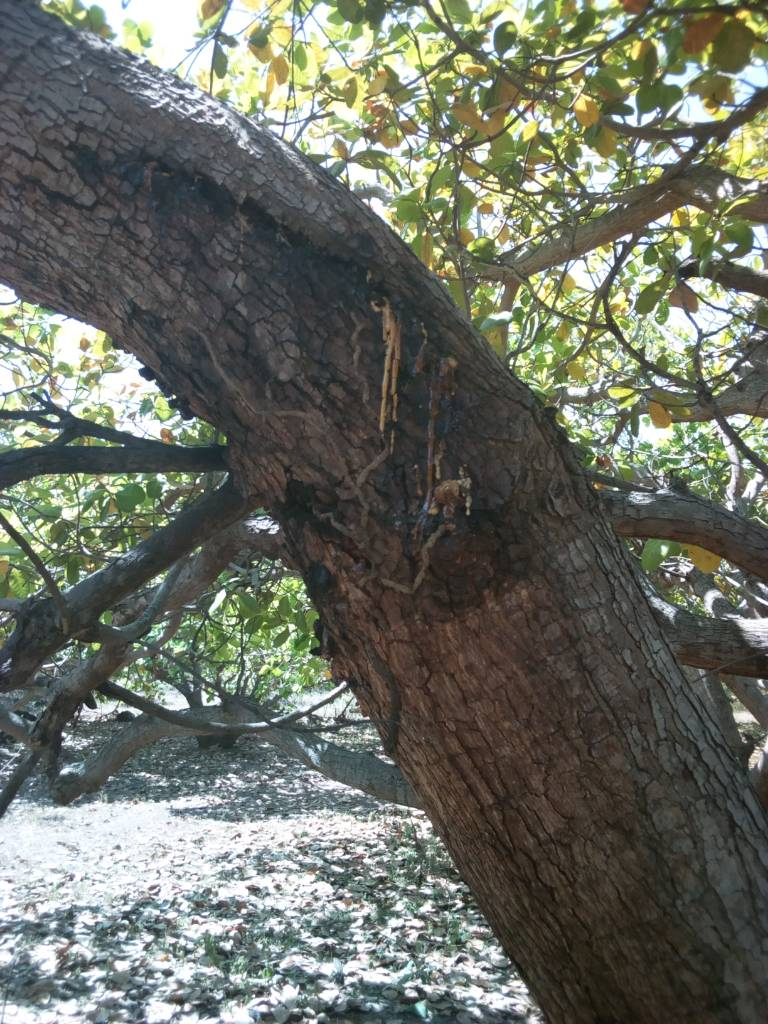Gommose: (100, 153, 505, 602)
